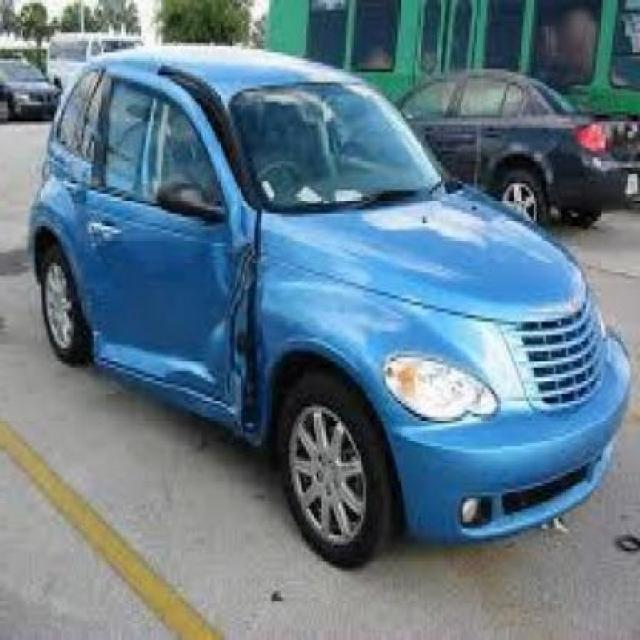damage: (113, 199, 265, 442)
